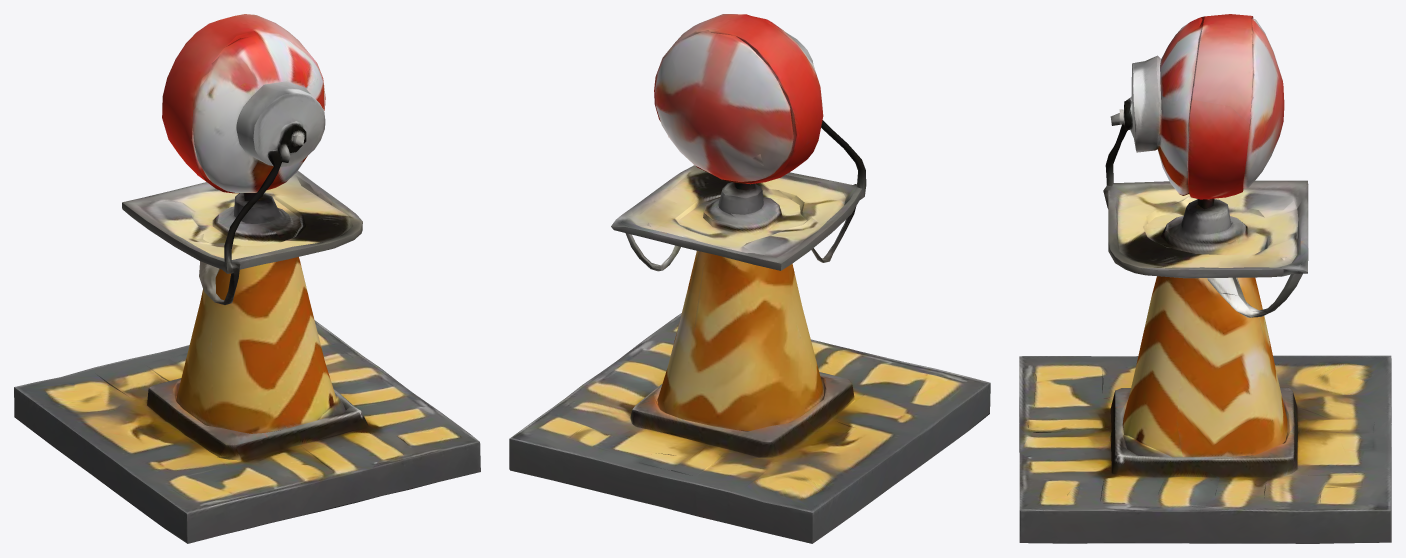
File: m2AnemometerPost.glb
3 views of the same model, side by side, from view 1: azimuth 30°, elevation 25°; view 2: azimuth 150°, elevation 25°; view 3: azimuth 270°, elevation 25° (orthographic). The views are drawn at different scales.
Parts seen in each view (by area): view 1: model; view 2: model; view 3: model.
Boxes of the visible parts, <box> form: model: <box>14,14,480,543</box>; model: <box>509,14,990,543</box>; model: <box>1019,14,1391,543</box>.
Size of the model in its own units: 1.41 by 1.89 by 1.43.
Materials: 1 (1 with a texture image).
